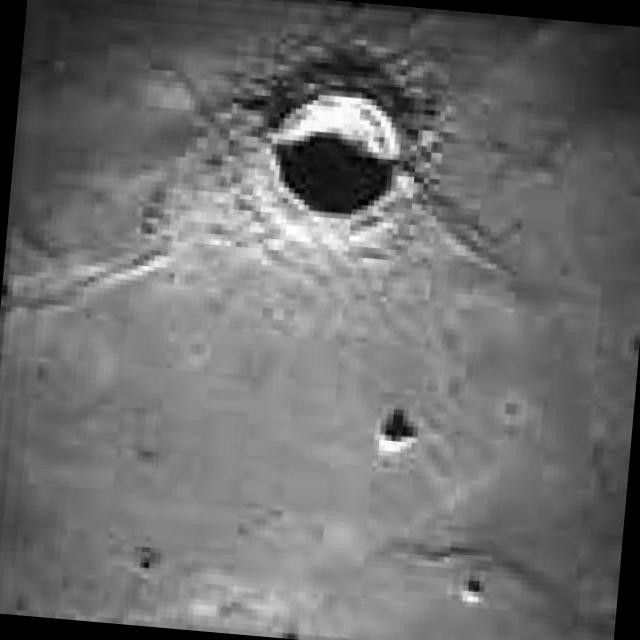crater: (263, 92, 405, 226)
